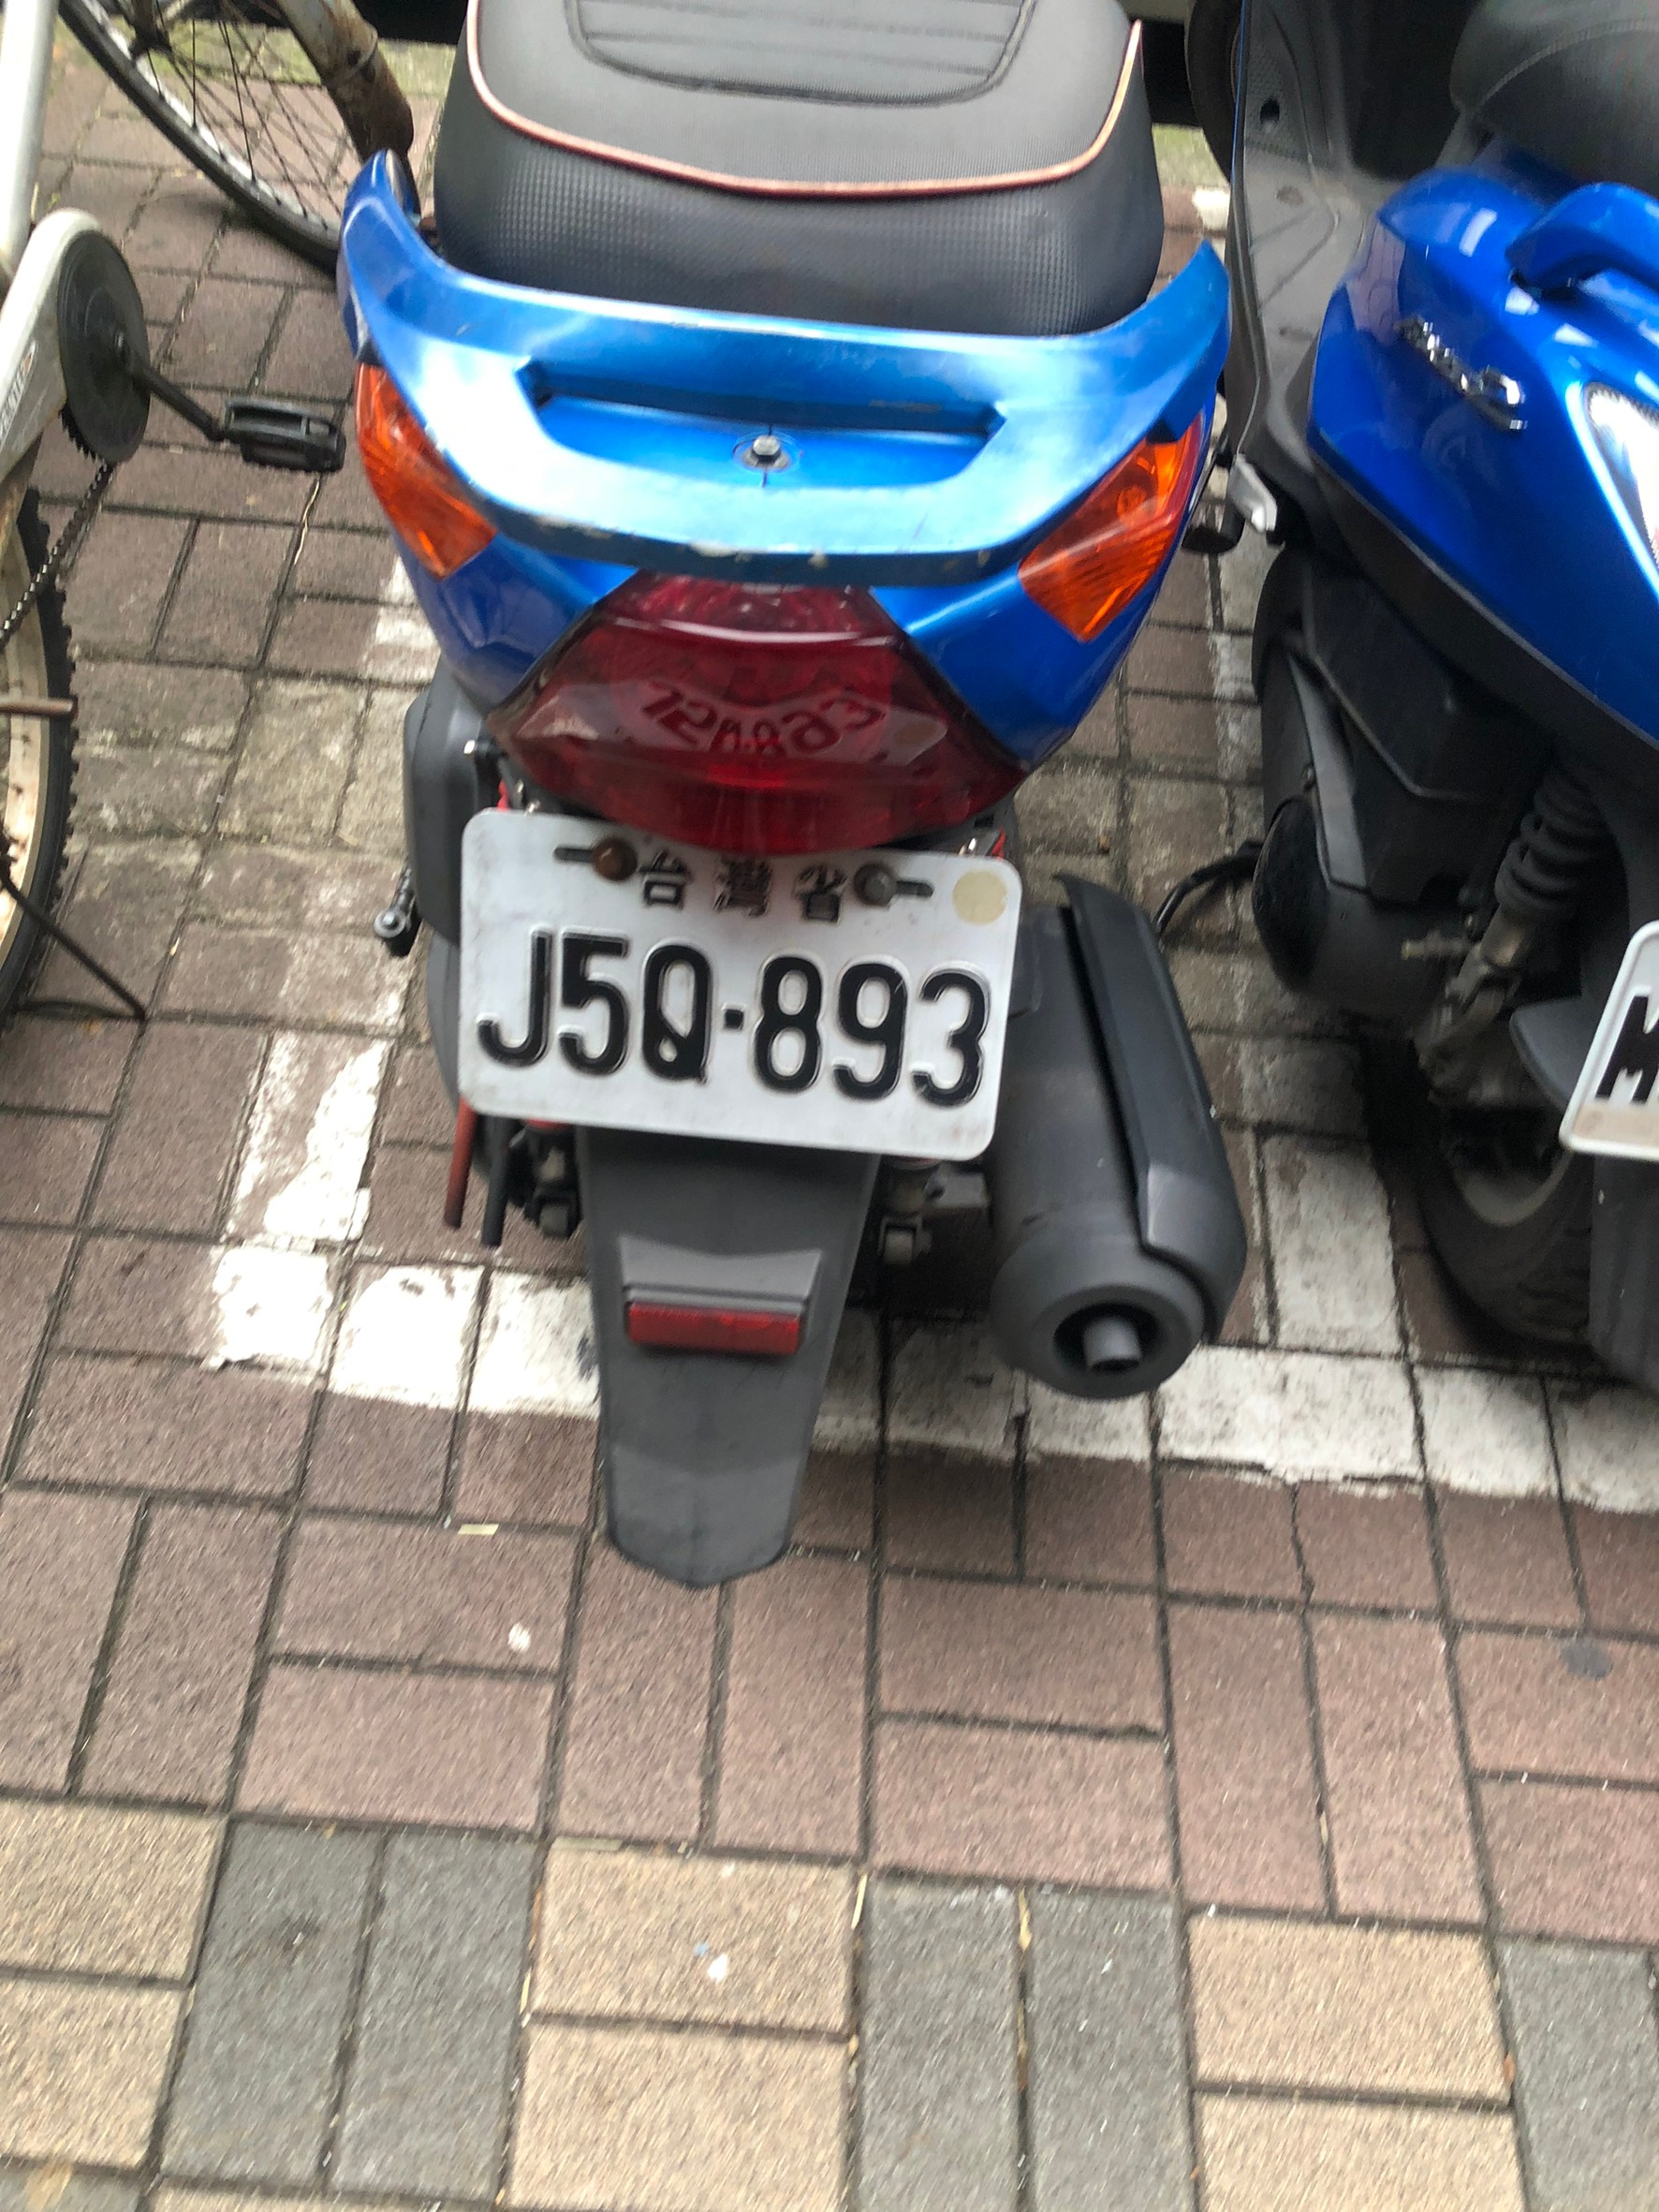LP: (467, 819, 1028, 1154)
